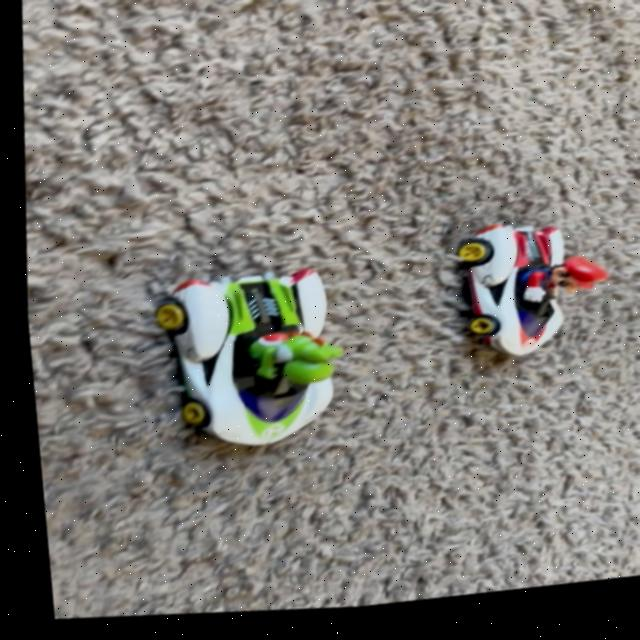mario: (434, 207, 624, 397)
yoshi: (131, 240, 363, 483)
